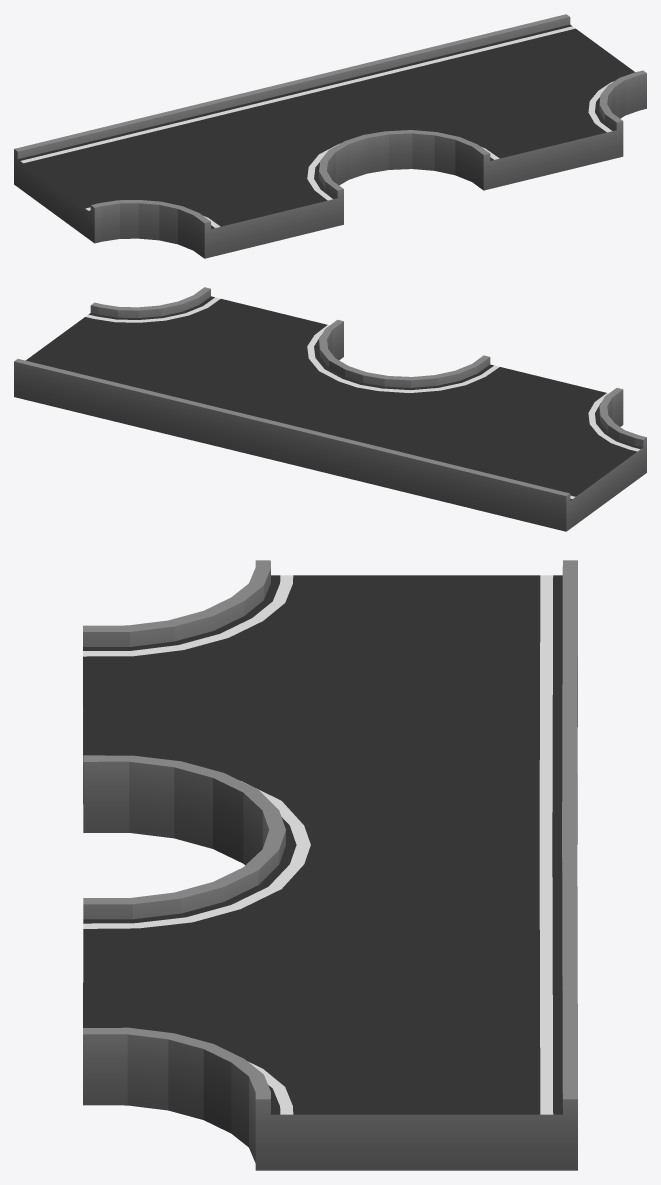
File: 4way_T_Intersection_Road.fbx
3 renders of one model, top to bottom at view 1: azimuth 30°, elevation 25°; view 2: azimuth 150°, elevation 25°; view 3: azimuth 270°, elevation 25°, orthographic. The views are drawn at different scales.
Parts seen in each view (by area): view 1: 4way_T_Intersection_Road; view 2: 4way_T_Intersection_Road; view 3: 4way_T_Intersection_Road.
Part boxes in pixels (x1,y1,x2,y2): 4way_T_Intersection_Road: (14,14,646,258); 4way_T_Intersection_Road: (14,287,646,531); 4way_T_Intersection_Road: (83,560,577,1170).
Bounding box in the file's own units: 789 × 48.52 × 306.
